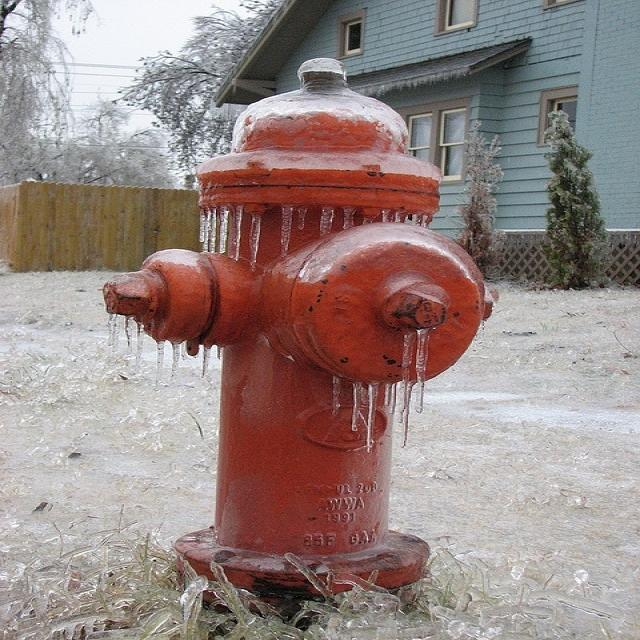fire_hydrant: (145, 70, 512, 566)
